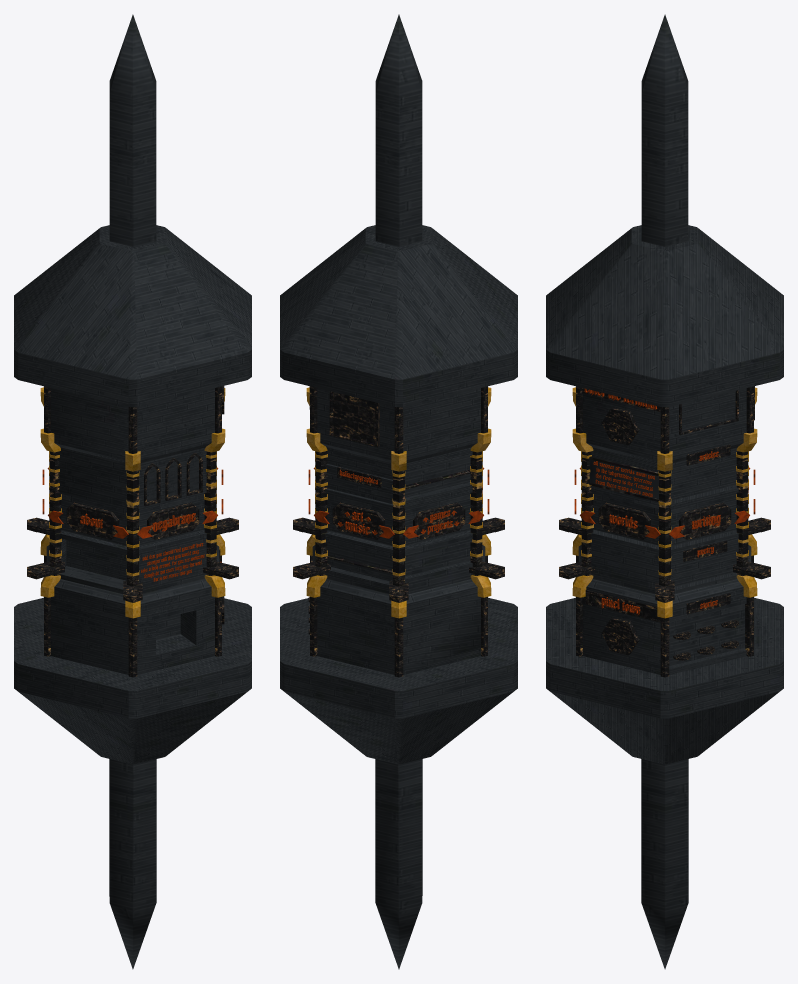
Rendered from HexCoreFallback1024-transformed.glb.
The picture shows the model from 3 angles, left to right: view 1: azimuth 30°, elevation 25°; view 2: azimuth 150°, elevation 25°; view 3: azimuth 270°, elevation 25°; orthographic projection.
Parts seen in each view (by area): view 1: HexCoreFallback; view 2: HexCoreFallback; view 3: HexCoreFallback.
Part boxes in pixels (x1,y1,x2,y2): HexCoreFallback: [14, 14, 251, 969]; HexCoreFallback: [280, 14, 517, 969]; HexCoreFallback: [546, 14, 783, 969].
Size of the model in its own units: 2.71 by 10.58 by 2.39.
1 material, 1 textured.
